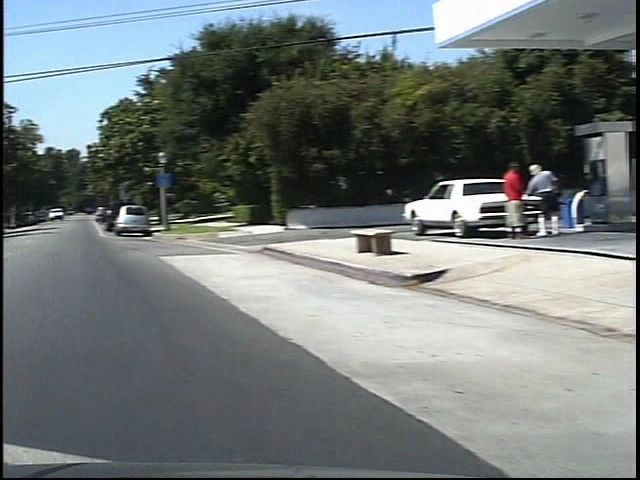person: (491, 159, 532, 242), (482, 156, 512, 242)
